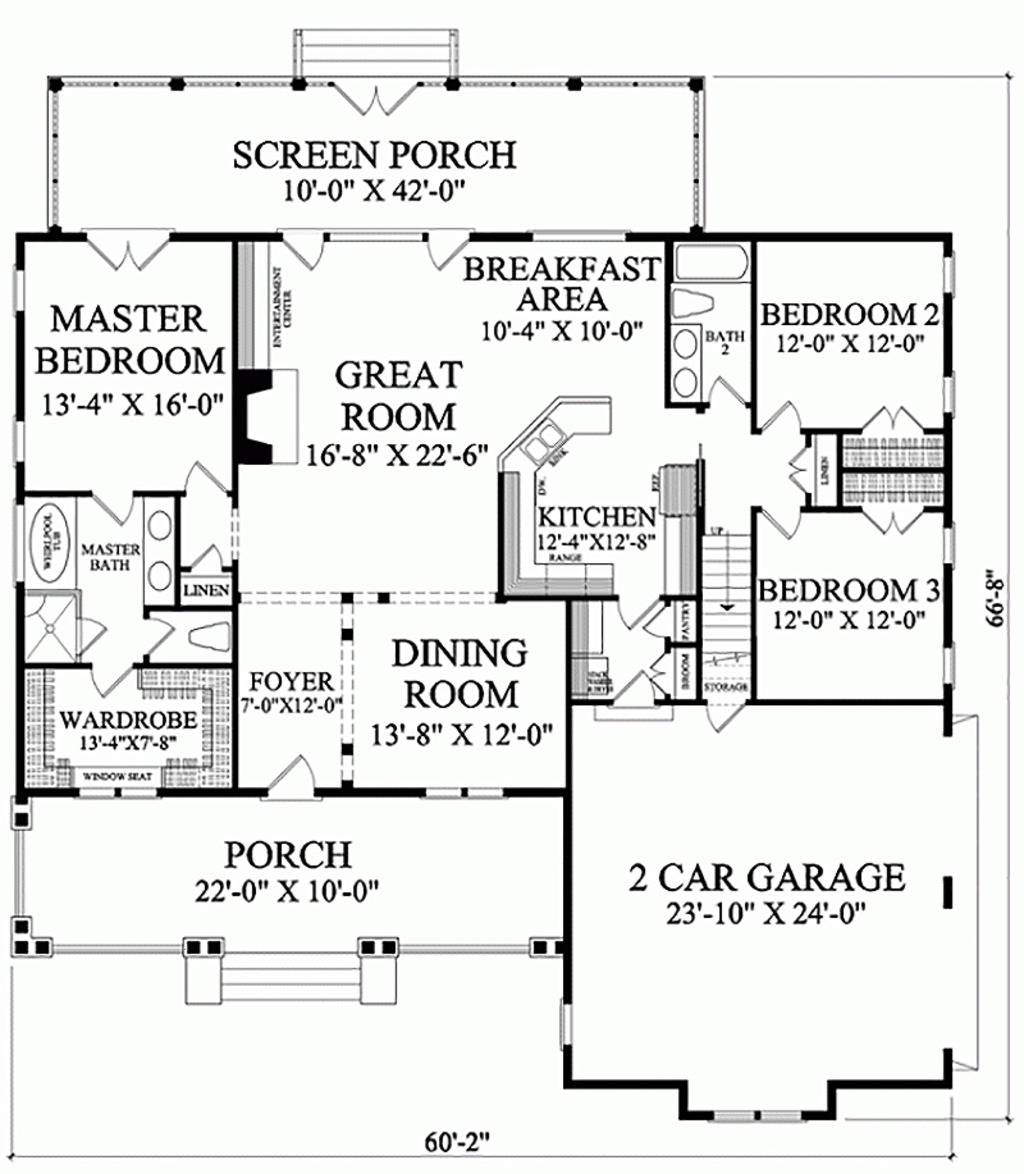door: (69, 228, 176, 282), (322, 73, 425, 122), (264, 742, 333, 795), (404, 222, 473, 270), (265, 224, 331, 273), (85, 664, 151, 713), (844, 400, 936, 431), (860, 495, 927, 537), (185, 457, 233, 510), (605, 586, 658, 633), (615, 677, 667, 724), (704, 693, 760, 733), (136, 610, 180, 660), (758, 397, 811, 437), (67, 608, 113, 653), (93, 488, 138, 528), (789, 439, 816, 502), (707, 375, 751, 410), (764, 504, 805, 540), (196, 546, 236, 577)
large_sink: (662, 284, 735, 328), (189, 613, 233, 660)
small_sink: (138, 493, 173, 604), (676, 326, 698, 419)
stairs: (698, 482, 756, 684)
tub: (673, 239, 762, 293)
twin_sink: (495, 402, 602, 482)
window: (73, 779, 165, 806), (409, 786, 507, 810), (707, 1099, 800, 1124), (9, 262, 33, 333), (7, 408, 27, 475), (557, 1002, 567, 1057)
